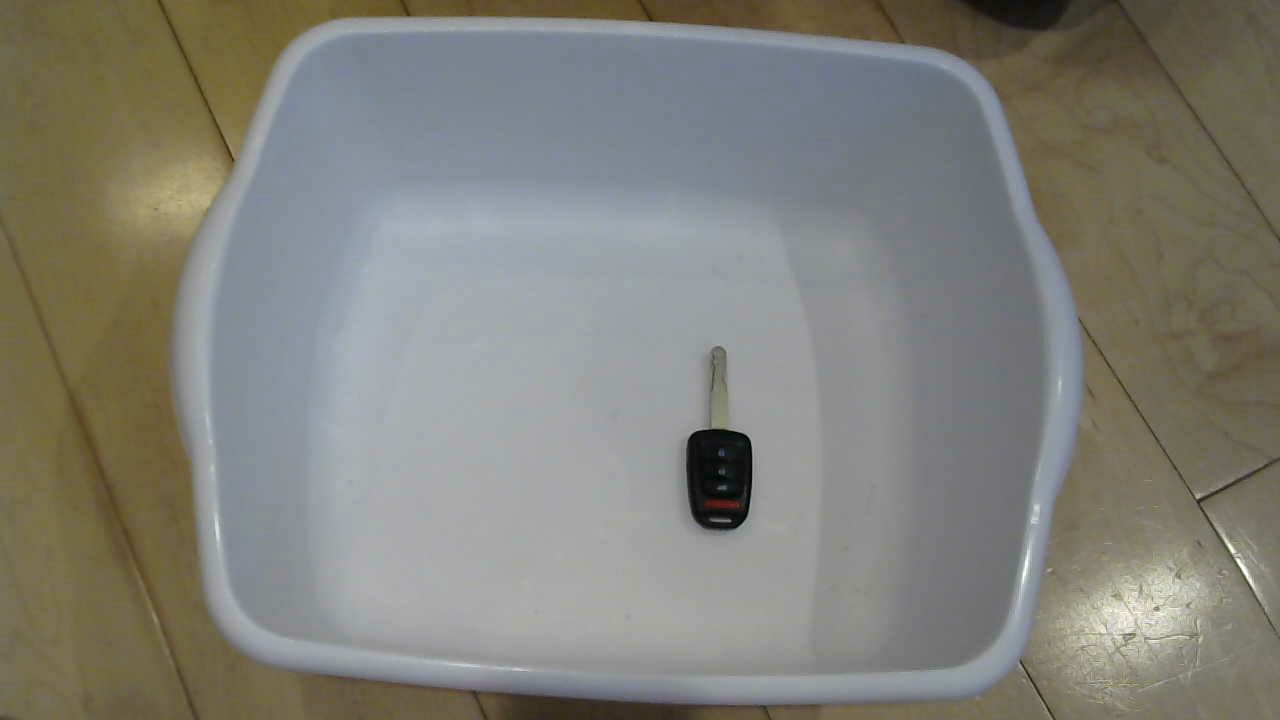key: (660, 342, 784, 547)
